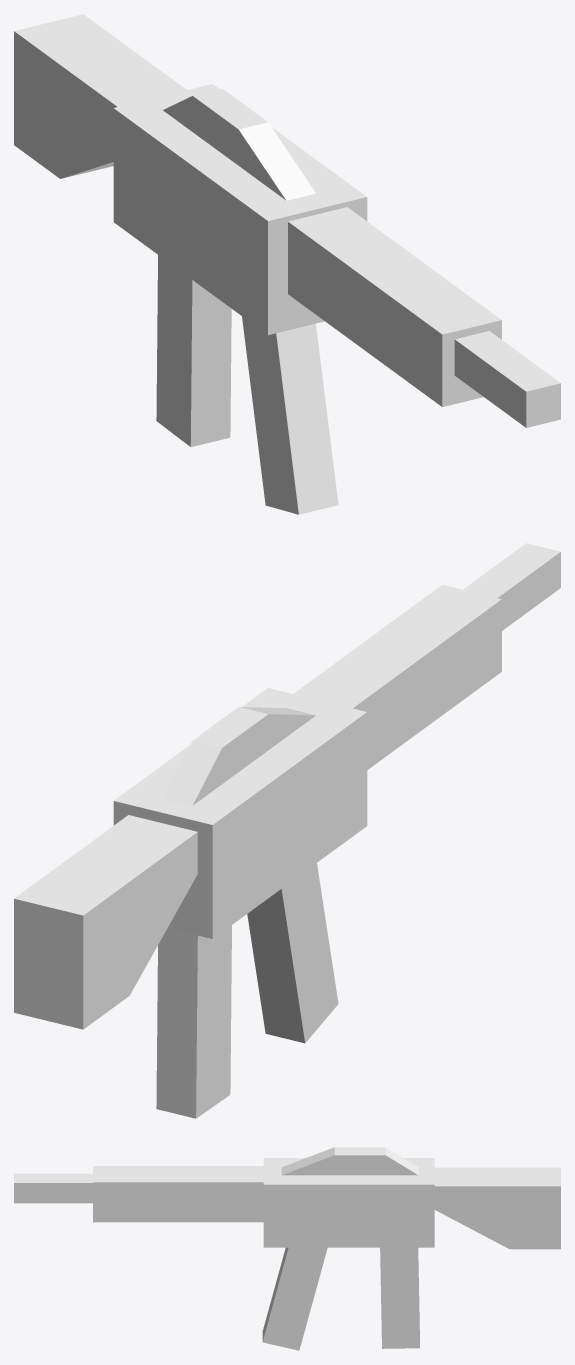
File: gun.obj
3 renders of one model, top to bottom at view 1: azimuth 30°, elevation 25°; view 2: azimuth 150°, elevation 25°; view 3: azimuth 270°, elevation 25°, orthographic. The views are drawn at different scales.
Visible parts, largest first — view 1: 立方体.004; view 2: 立方体.004; view 3: 立方体.004.
Part boxes in pixels (bbox=[...]): 立方体.004: bbox=[14, 14, 560, 514]; 立方体.004: bbox=[14, 543, 560, 1118]; 立方体.004: bbox=[14, 1147, 560, 1350].
Size of the model in its own units: 0.2 by 0.6777 by 1.73.
1 material, 1 textured.
